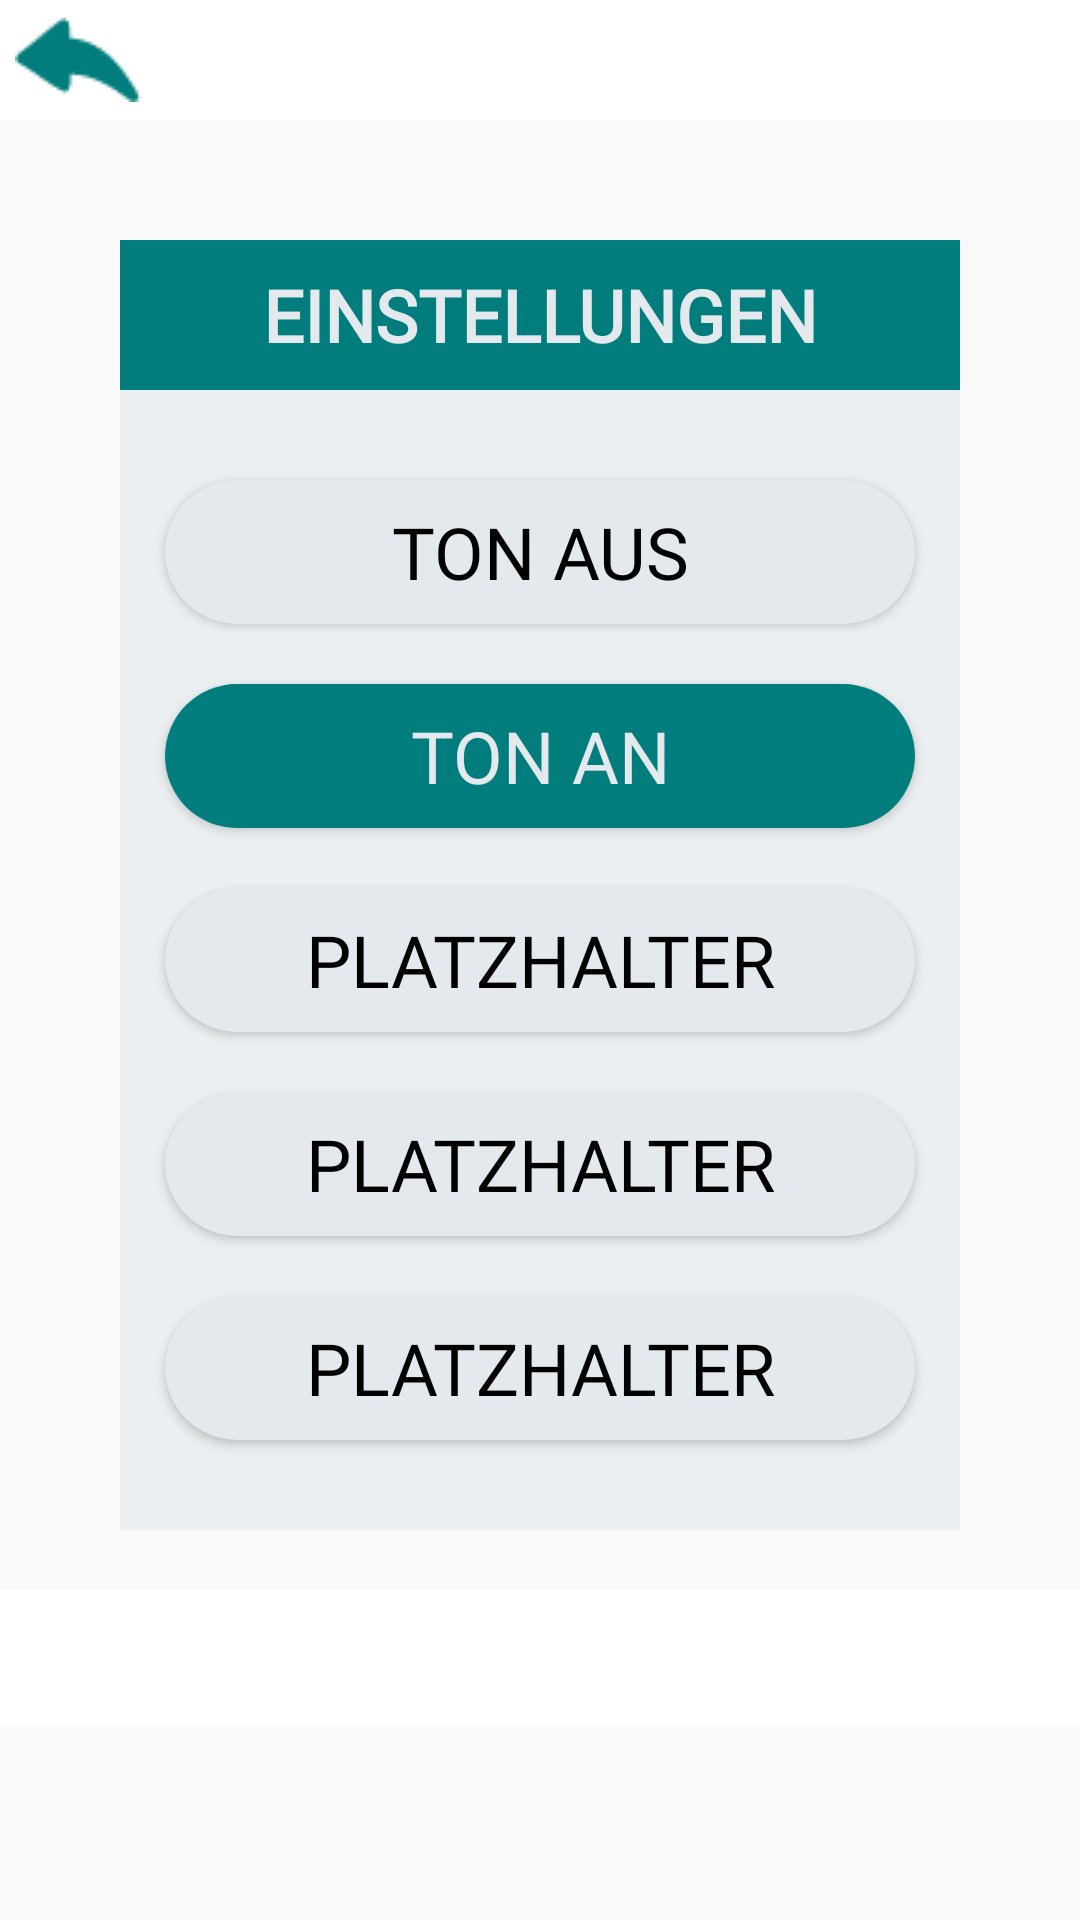

Named icons in this screenshot (1080px×1920px) and their bounding boxes, (x1, y1, x2, y2):
back: (15, 18, 141, 102)
